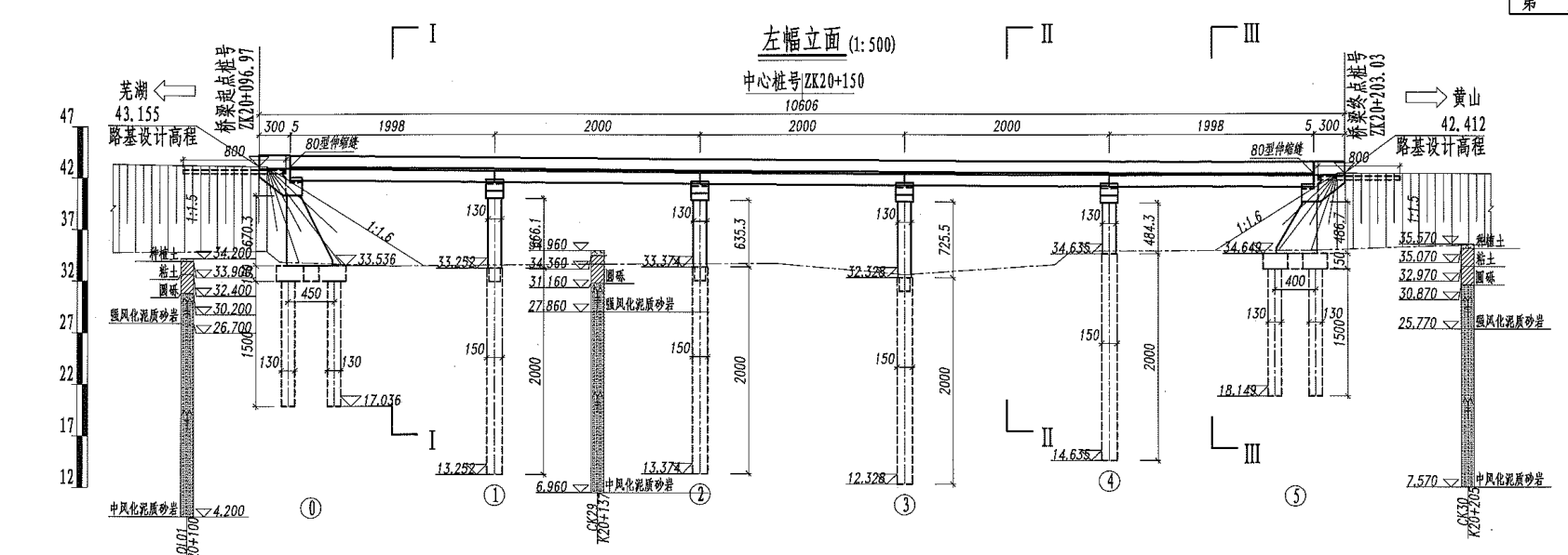C: (1204, 237, 1338, 516), (832, 178, 931, 522), (1034, 178, 1138, 498), (629, 175, 726, 515), (424, 174, 520, 515)
